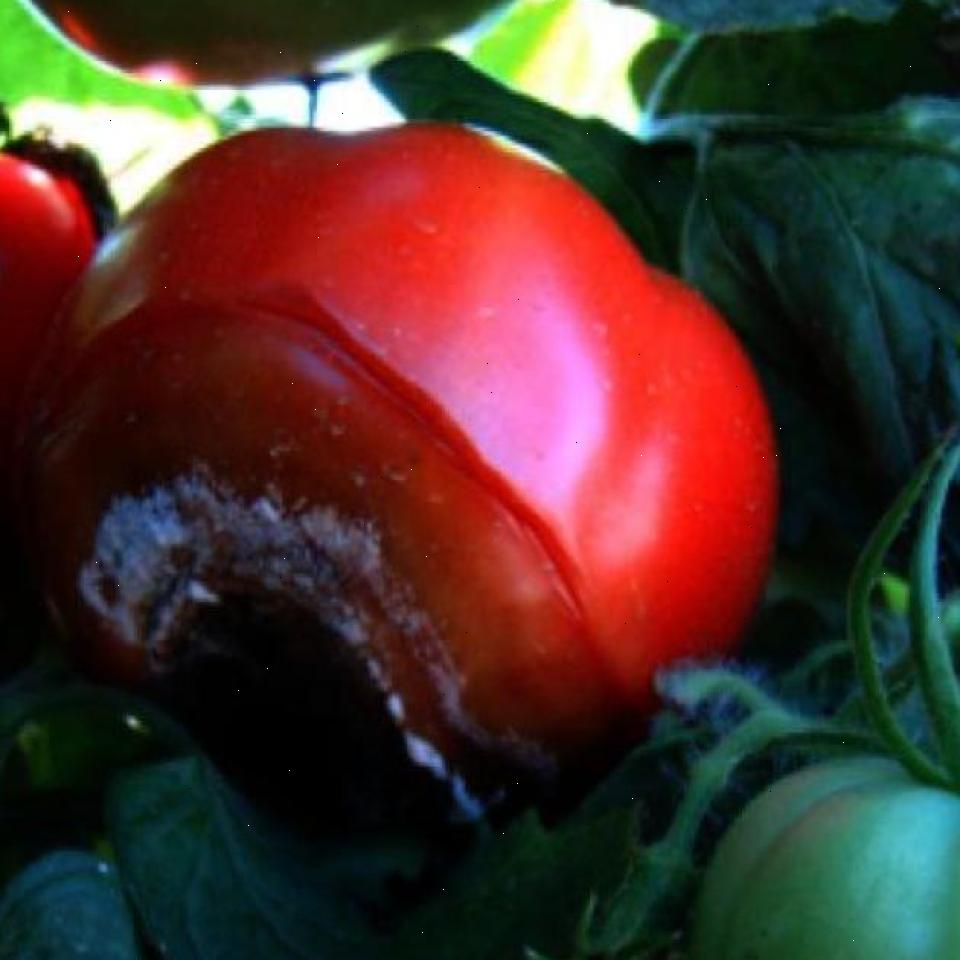Blossom_end_rot: (110, 467, 574, 842)
